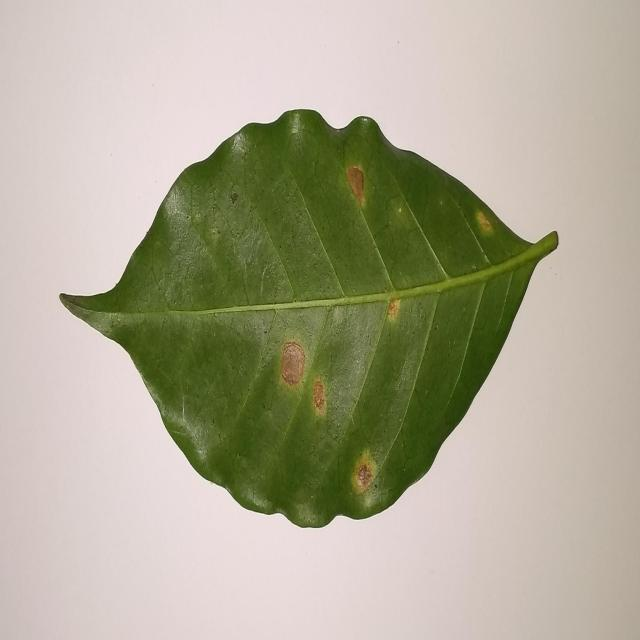Enfermedad-Mancha-de-hierro: (57, 109, 559, 532)
